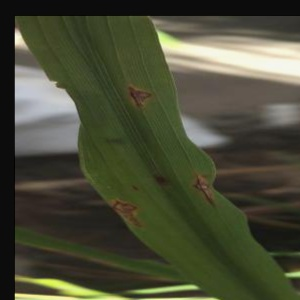Brown_Spot: (107, 57, 174, 120), (91, 179, 147, 232), (178, 153, 224, 214)
